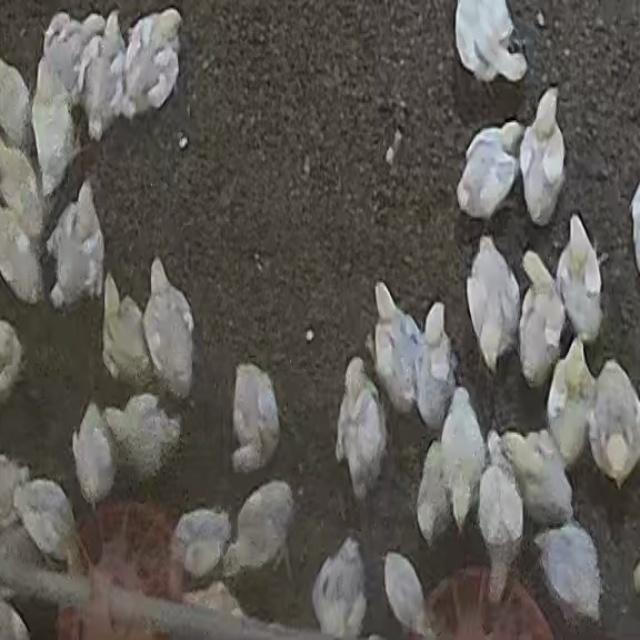chicken: (475, 436, 523, 610), (46, 179, 106, 312), (334, 356, 387, 506), (465, 235, 519, 379), (502, 425, 574, 531), (436, 386, 486, 538), (372, 282, 426, 421), (29, 60, 80, 206), (532, 522, 602, 628), (144, 256, 197, 393), (38, 10, 105, 116), (104, 392, 182, 483), (226, 480, 296, 580), (587, 358, 640, 488), (516, 249, 565, 387), (75, 10, 126, 141), (517, 87, 567, 220), (13, 474, 82, 570), (555, 213, 603, 349), (544, 338, 594, 464), (310, 535, 369, 640), (126, 9, 182, 111), (457, 0, 528, 80), (459, 123, 518, 216), (0, 131, 46, 248), (418, 302, 458, 434), (71, 400, 116, 513), (103, 280, 149, 387), (170, 506, 233, 584), (0, 198, 44, 307), (235, 368, 279, 476), (382, 550, 433, 639), (415, 443, 451, 548), (0, 49, 34, 155)
